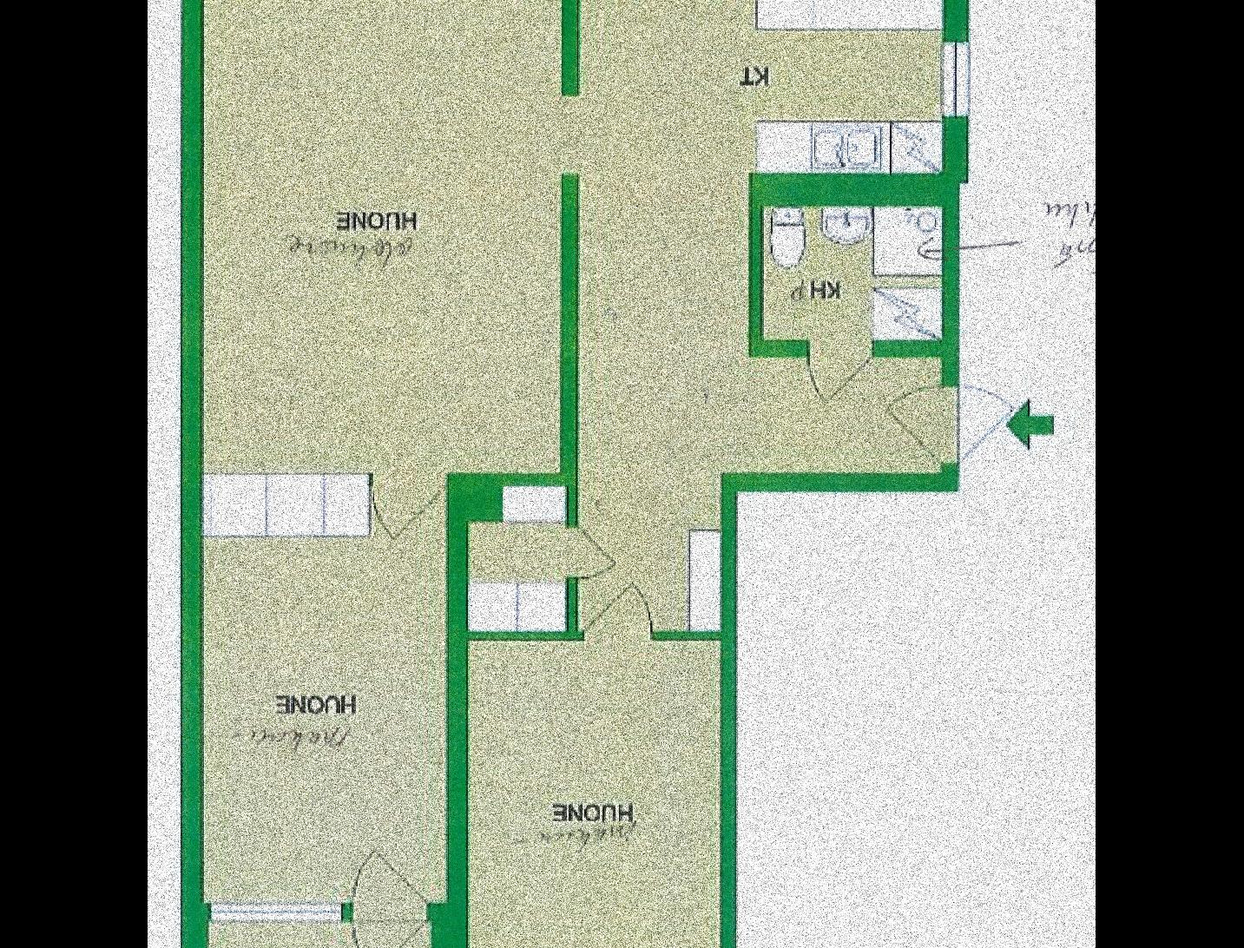door: (887, 376, 1020, 471), (347, 840, 430, 948), (372, 462, 447, 547), (802, 341, 880, 408), (582, 579, 662, 642), (566, 520, 616, 574)
window: (211, 898, 342, 926)
zone: (202, 0, 564, 905), (576, 0, 943, 636), (469, 638, 718, 948), (762, 210, 941, 346), (465, 492, 563, 635), (203, 920, 428, 948)
